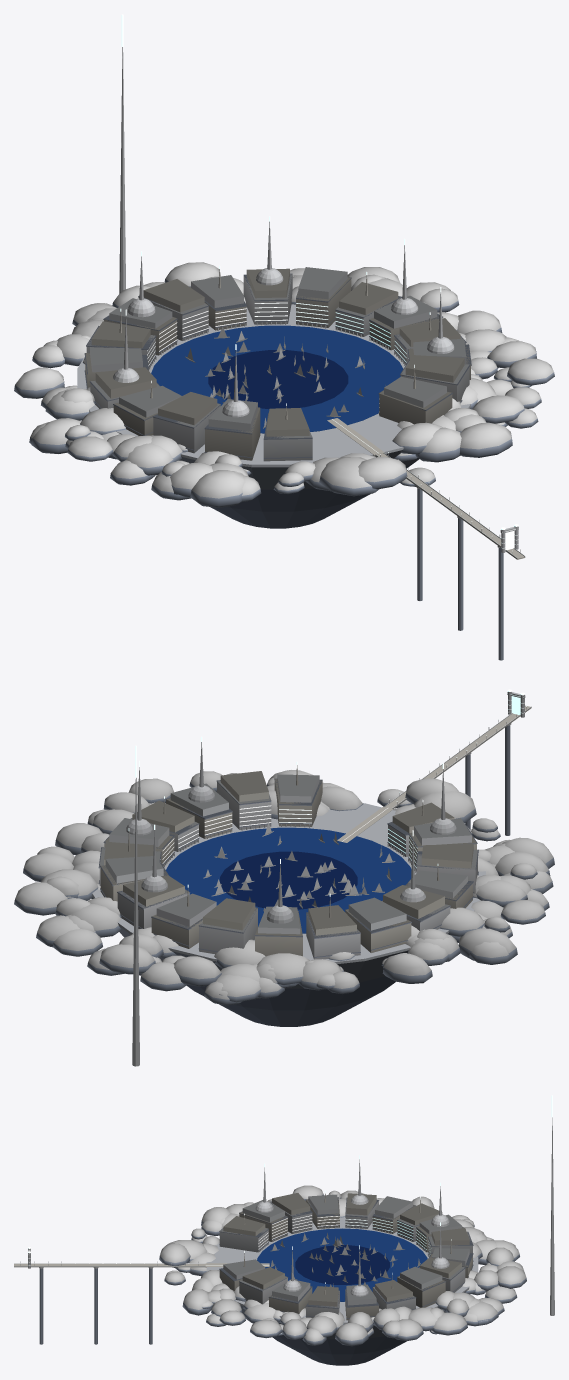
Rendered from shaddai_edge_harbor_v01.glb.
3 views of the same model, one above another, from view 1: azimuth 30°, elevation 25°; view 2: azimuth 150°, elevation 25°; view 3: azimuth 270°, elevation 25° (orthographic). The views are drawn at different scales.
Visible parts, largest first — view 1: shaddai_edge_harbor; view 2: shaddai_edge_harbor; view 3: shaddai_edge_harbor.
Boxes of the visible parts, x1,y1,x2,y2 form: shaddai_edge_harbor: (14,14,554,660); shaddai_edge_harbor: (14,689,554,1066); shaddai_edge_harbor: (14,1095,554,1365).
Size of the model in its own units: 794 by 650 by 1186.
